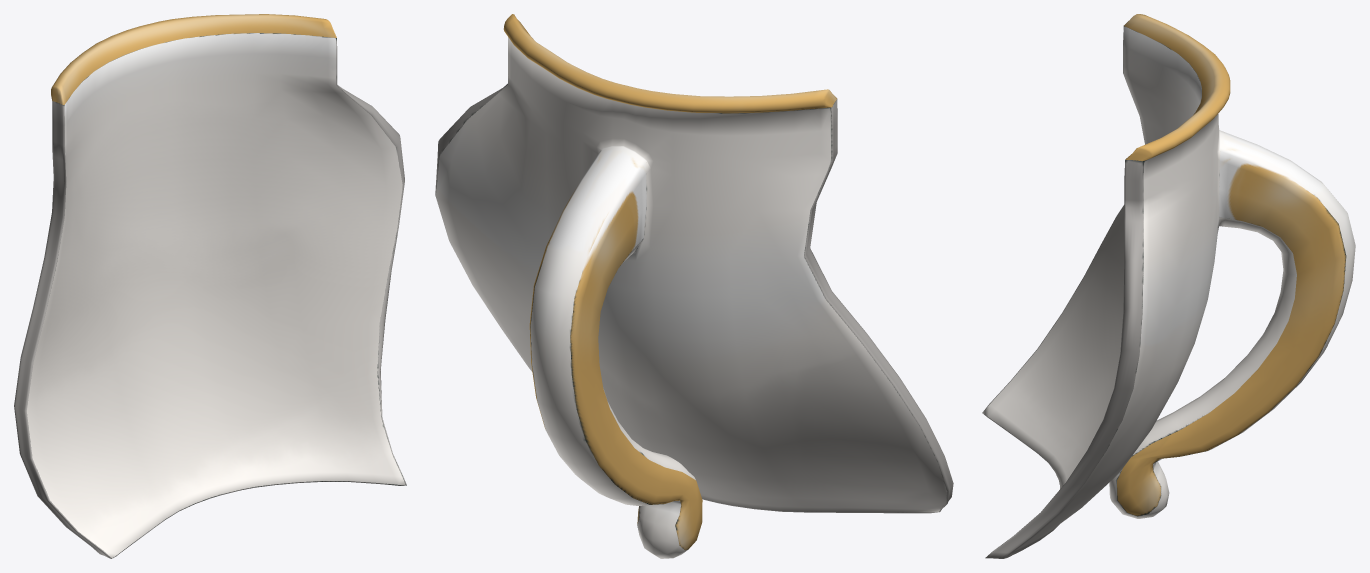
File: oorkopje.FBX
The picture shows the model from 3 angles, left to right: view 1: azimuth 30°, elevation 25°; view 2: azimuth 150°, elevation 25°; view 3: azimuth 270°, elevation 25°; orthographic projection. The views are drawn at different scales.
Parts seen in each view (by area): view 1: Box001; view 2: Box001; view 3: Box001.
Part boxes in pixels (x1,y1,x2,y2): Box001: [14, 14, 406, 558]; Box001: [435, 14, 953, 558]; Box001: [982, 14, 1355, 558].
Bounding box in the file's own units: 83.28 × 84.56 × 65.58.
1 material, 1 textured.
